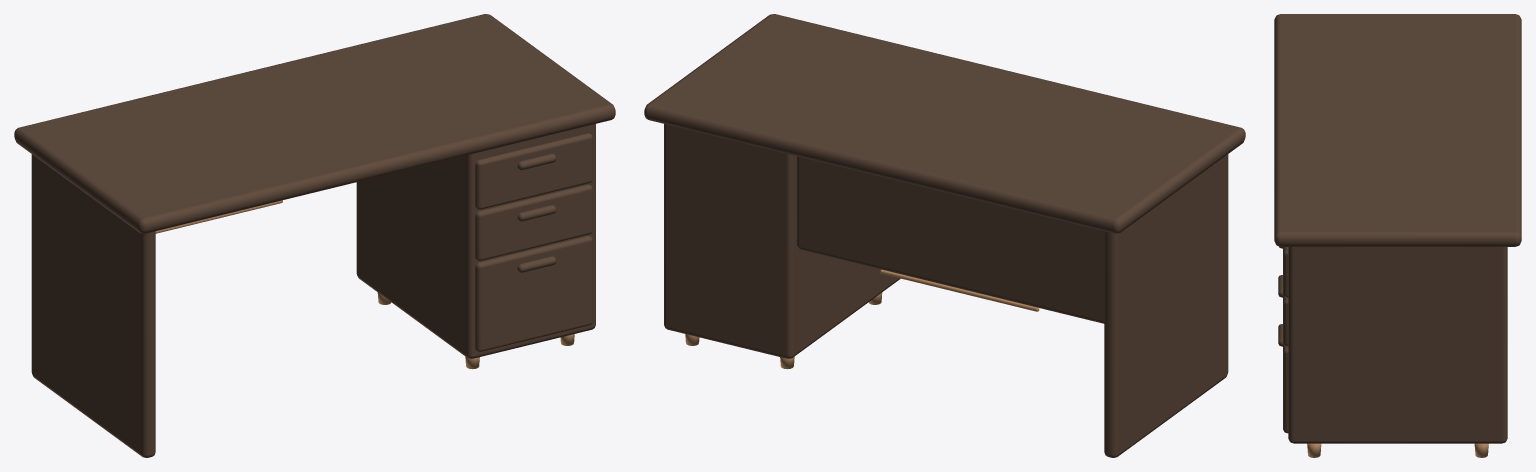
File: desk.glb
3 renders of one model, left to right at view 1: azimuth 30°, elevation 25°; view 2: azimuth 150°, elevation 25°; view 3: azimuth 270°, elevation 25°, orthographic. The views are drawn at different scales.
Visible parts, largest first — view 1: desk; view 2: desk; view 3: desk.
Part boxes in pixels (x1,y1,x2,y2): desk: (14,14,615,457); desk: (644,14,1245,457); desk: (1274,14,1521,457).
Size of the model in its own units: 1.51 by 0.7487 by 0.7087.
